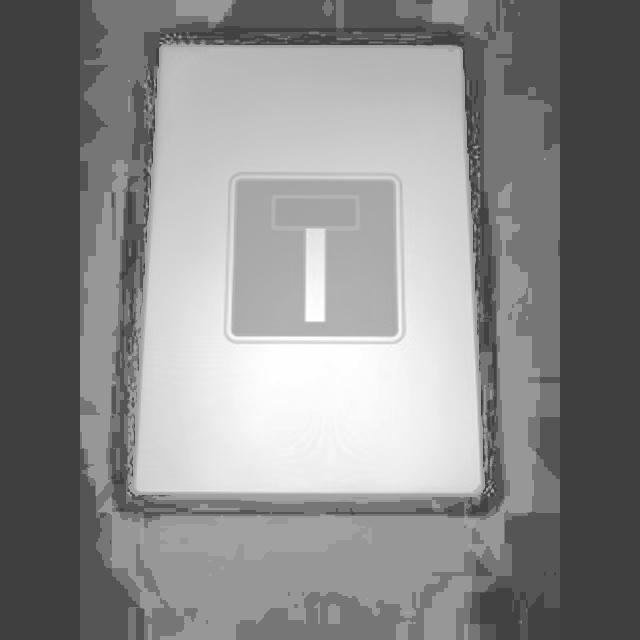DEAD END: (226, 172, 404, 342)
